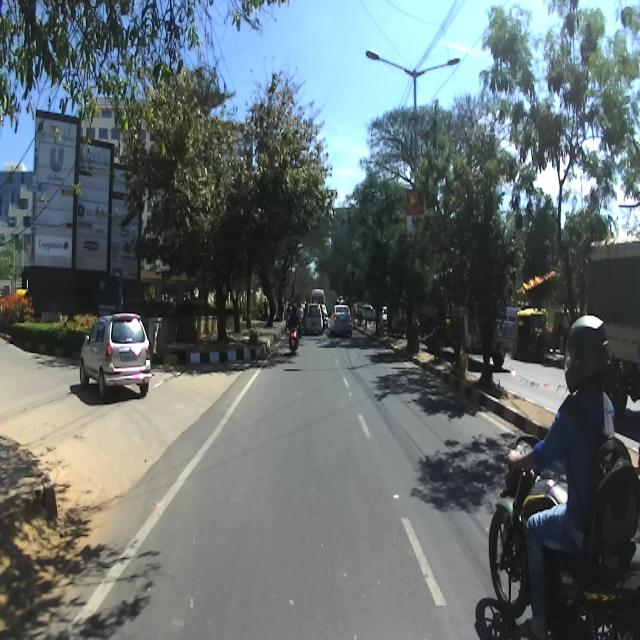car ahead at: (80, 306, 152, 400)
motorcycle ahead at: (484, 436, 639, 640)
